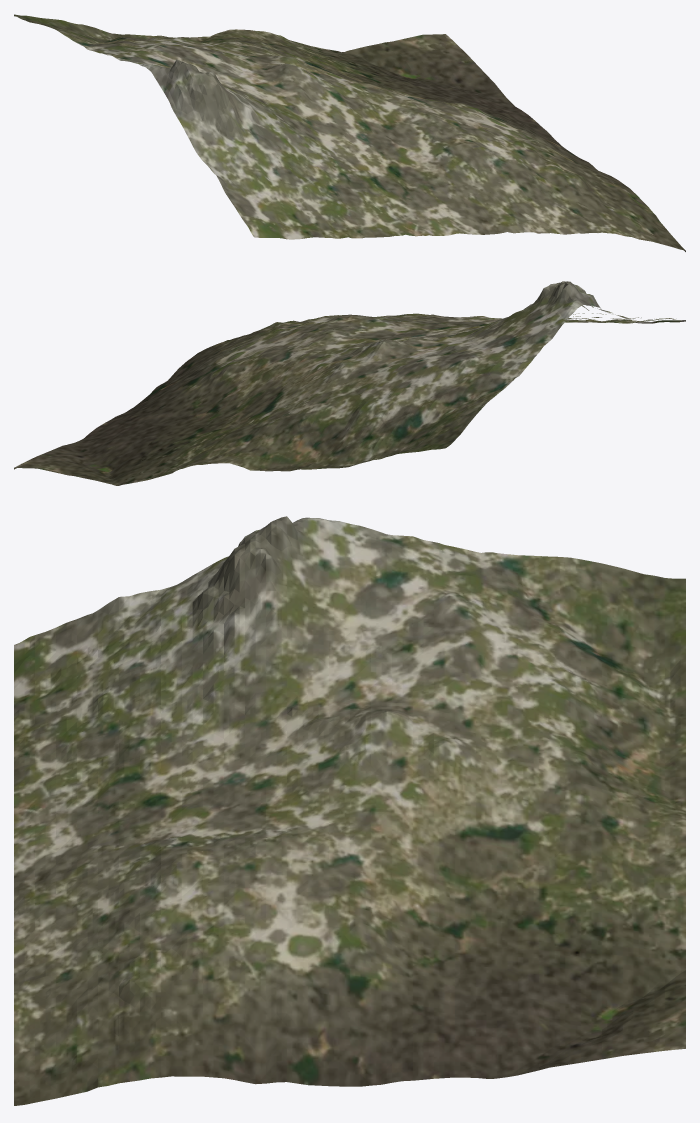
The picture shows the model from 3 angles, top to bottom: view 1: azimuth 30°, elevation 25°; view 2: azimuth 150°, elevation 25°; view 3: azimuth 270°, elevation 25°; orthographic projection. The views are drawn at different scales.
Bounding box in the file's own units: 250 × 123 × 241.
1 material, 1 textured.
